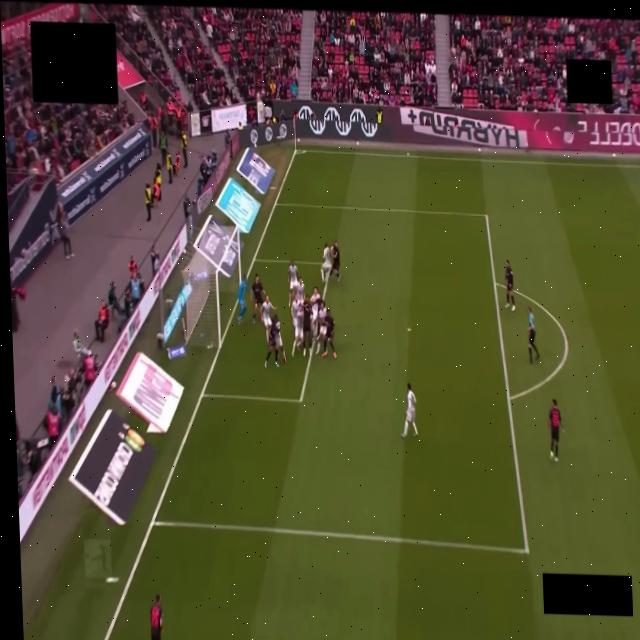player: (264, 315, 285, 367), (319, 308, 336, 359), (549, 400, 562, 462), (402, 384, 417, 437), (271, 314, 286, 362), (290, 298, 302, 355), (301, 297, 312, 356), (314, 301, 326, 353), (260, 296, 275, 337), (251, 274, 263, 322), (309, 288, 320, 337), (150, 595, 162, 639), (505, 260, 514, 310), (237, 278, 246, 325), (320, 243, 331, 281), (288, 260, 297, 303), (330, 242, 339, 281), (293, 278, 304, 304)
referee: (527, 307, 539, 363)
